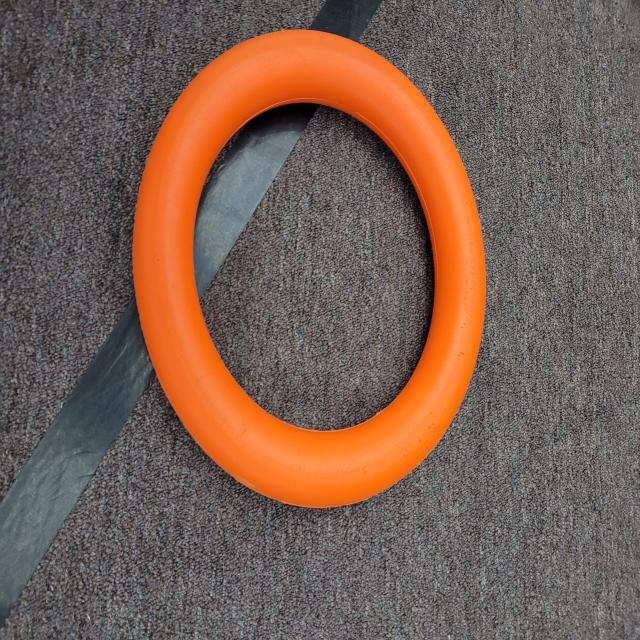note: (118, 22, 509, 516)
